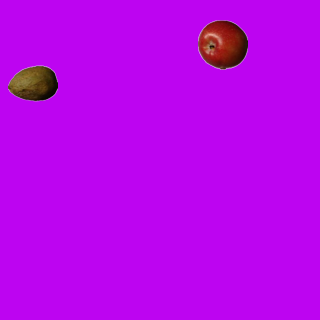Apple Braeburn: (197, 19, 247, 69)
Papaya: (7, 58, 57, 108)
